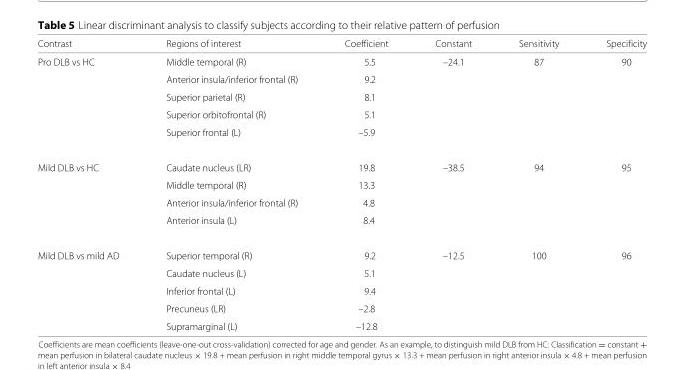table: (36, 37, 646, 331)
table column: (141, 37, 320, 331), (36, 37, 141, 331), (320, 37, 411, 331), (494, 37, 581, 331), (411, 37, 494, 331), (581, 37, 646, 331)
table column header: (36, 37, 646, 52)
table row: (36, 122, 646, 149), (36, 237, 646, 264), (36, 149, 646, 175), (36, 211, 646, 237), (36, 52, 646, 70), (36, 87, 646, 105), (36, 175, 646, 193), (36, 193, 646, 211), (36, 281, 646, 299), (36, 70, 646, 87), (36, 105, 646, 122), (36, 264, 646, 281), (36, 299, 646, 316), (36, 37, 646, 52), (36, 316, 646, 331)
table spanning cell: (36, 52, 141, 149), (36, 237, 141, 331), (36, 149, 141, 237)
